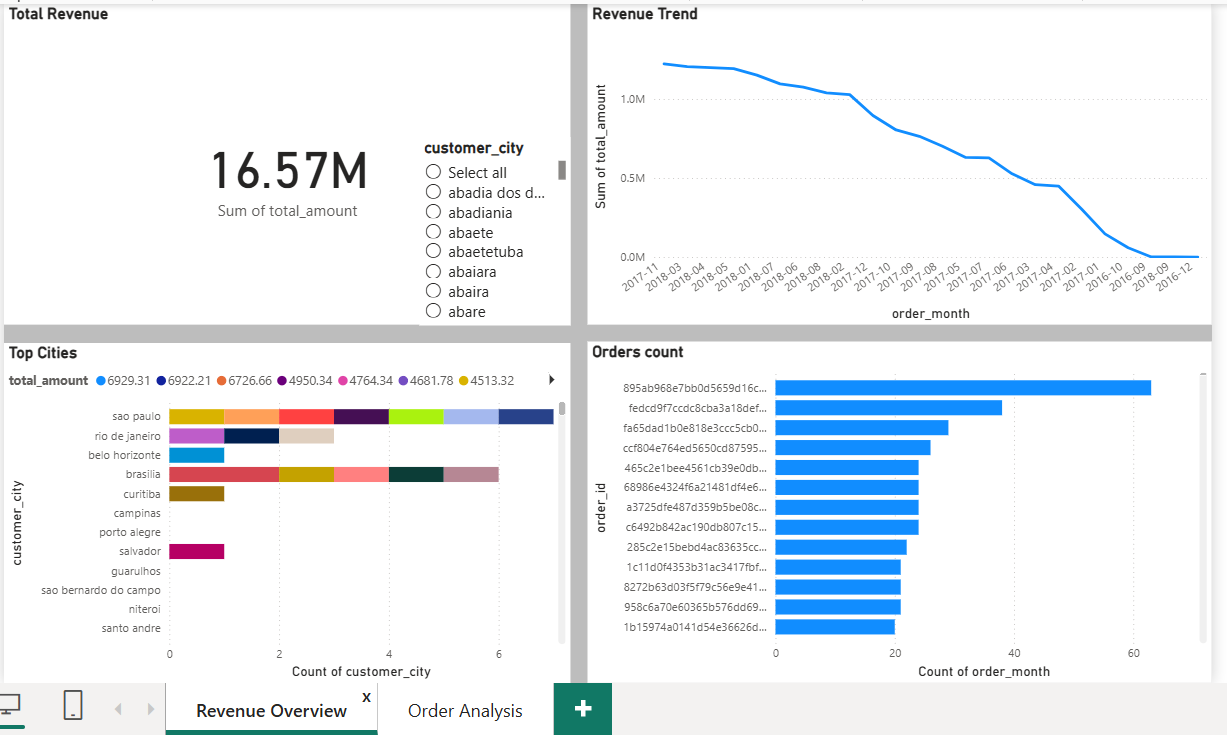

Layout of this report page (visuals, bound fields, positions):
{"tool":"powerbi","page":{"name":"Revenue Overview","canvas":[1280,720],"ordinal":0},"visuals":[{"type":"card","title":"Total Revenue","fields":{"Values":["Sum(ecommerce_orders.total_amount)"]},"box":[0,0,600.7,340],"z":0},{"type":"lineChart","title":"Revenue Trend","fields":{"Category":["ecommerce_orders.order_month"],"Y":["Sum(ecommerce_orders.total_amount)"]},"box":[618.3,0,661.7,340],"z":1000},{"type":"barChart","title":"Top Cities","fields":{"Category":["ecommerce_orders.customer_city"],"Series":["ecommerce_orders.total_amount"],"Y":["CountNonNull(ecommerce_orders.customer_city)"]},"box":[0,359.2,600.4,361],"z":2000},{"type":"barChart","title":"Orders count","fields":{"Category":["ecommerce_orders.order_id"],"Y":["CountNonNull(ecommerce_orders.order_month)"]},"box":[618.3,358.3,661.7,361.7],"z":3000},{"type":"listSlicer","fields":{"Values":["ecommerce_orders.customer_city"]},"box":[440,141.7,160,198.3],"z":3001}]}

Visuals, with their boxes on the page's 1280x720 design canvas (x1, y1, x2, y2). These are canvas units, not pixel positions in the 1227x735 screenshot, which may show the page scaled, cropped or inside an application window:
"Total Revenue" card: {"left": 0, "top": 0, "right": 601, "bottom": 340}
"Revenue Trend" lineChart: {"left": 618, "top": 0, "right": 1280, "bottom": 340}
"Top Cities" barChart: {"left": 0, "top": 359, "right": 600, "bottom": 720}
"Orders count" barChart: {"left": 618, "top": 358, "right": 1280, "bottom": 720}
listSlicer - ecommerce_orders.customer_city: {"left": 440, "top": 142, "right": 600, "bottom": 340}
